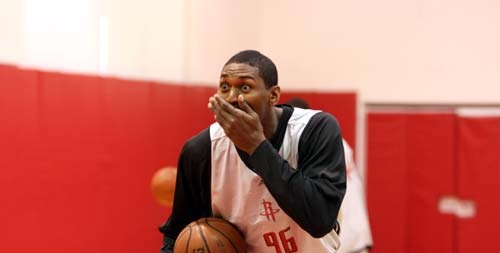face: (216, 69, 267, 126)
